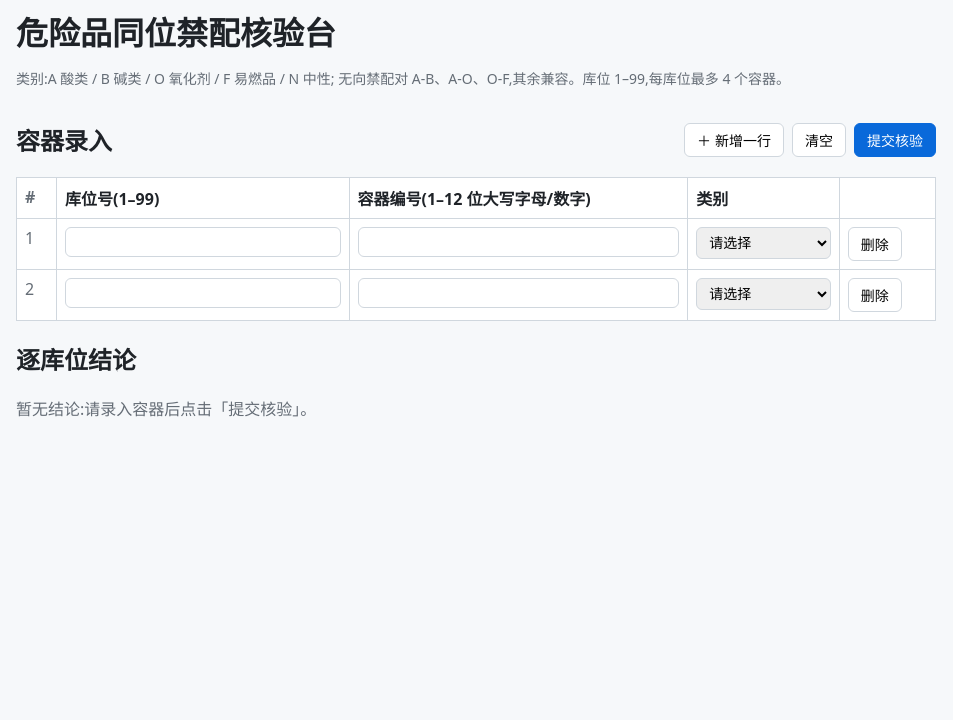
App 核验台交互 › 同一批内字段错误、重复编号、超容量一次性全部标出
Click the button with test id "add-row".
click(734, 140)  # box [684,123,784,157]
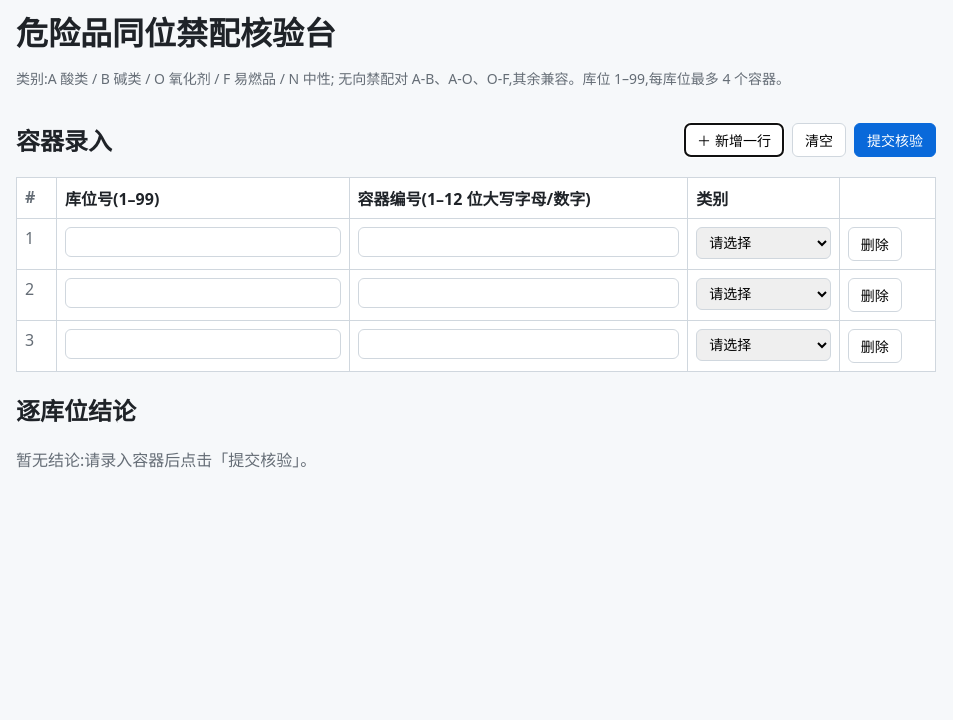
Click the button with test id "add-row".
click(734, 140)  # box [684,123,784,157]
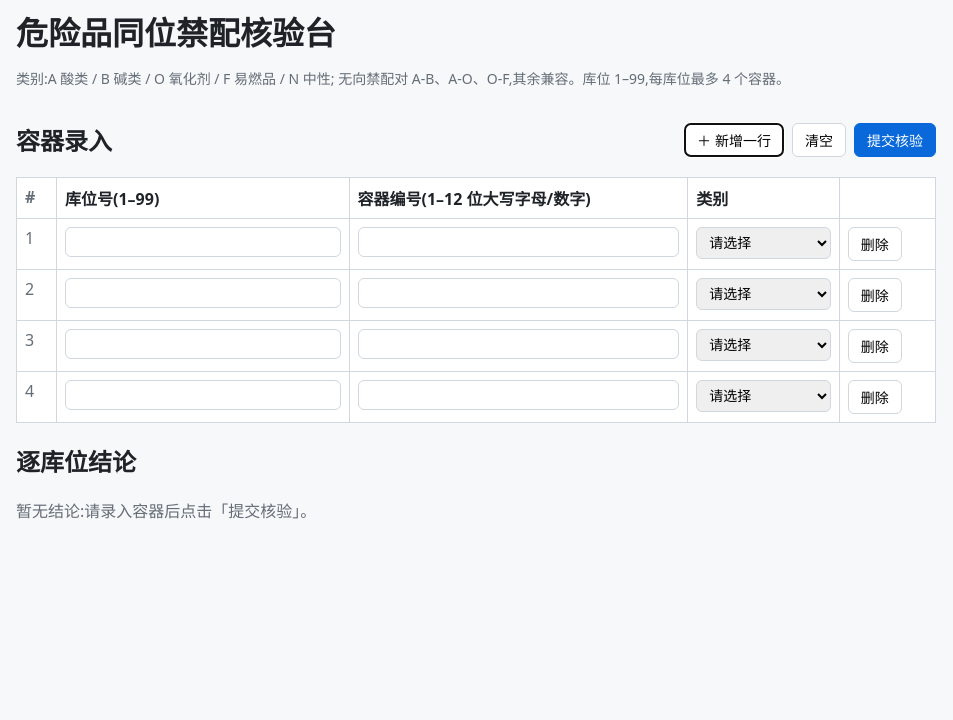
Click the button with test id "add-row".
click(734, 140)  # box [684,123,784,157]
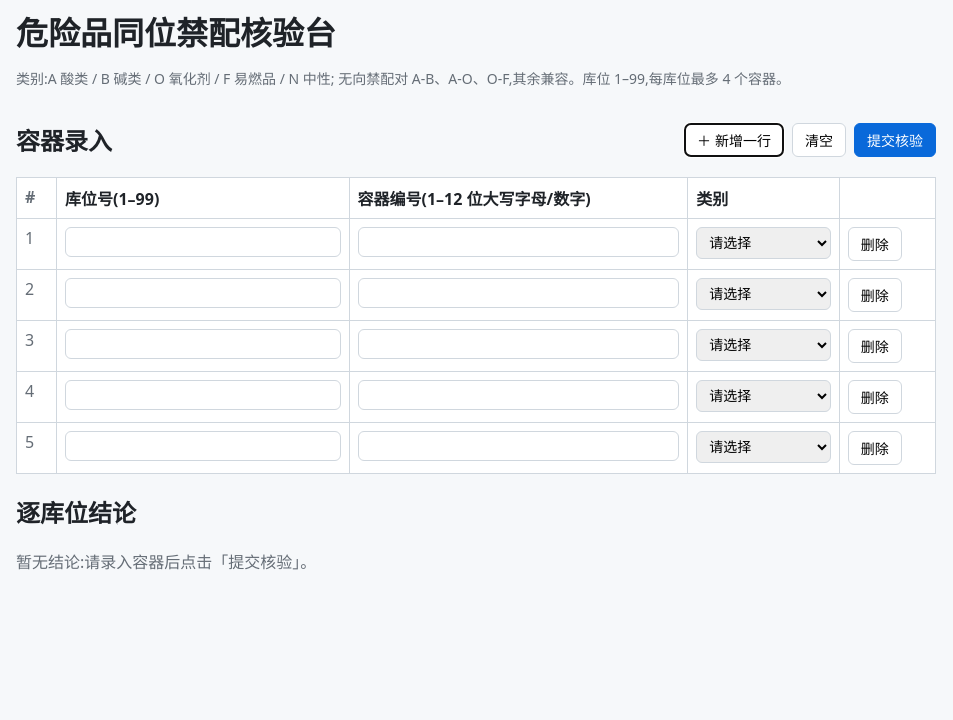
Click the button with test id "add-row".
click(734, 140)  # box [684,123,784,157]
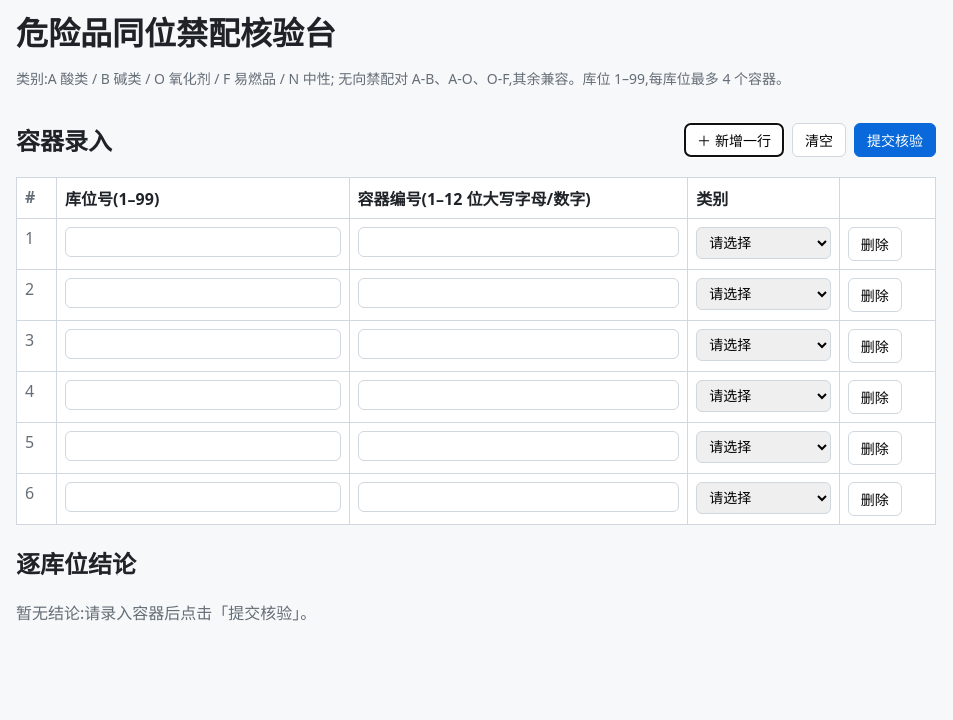
Click the button with test id "add-row".
click(734, 140)  # box [684,123,784,157]
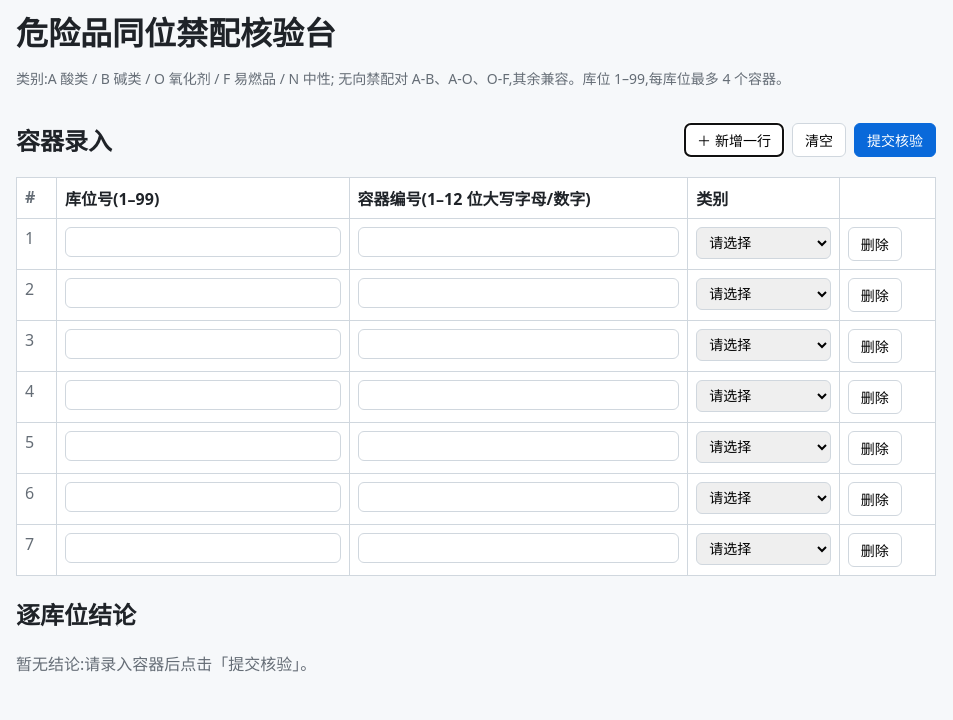
Click the button with test id "submit".
click(895, 140)  # box [854,123,936,157]
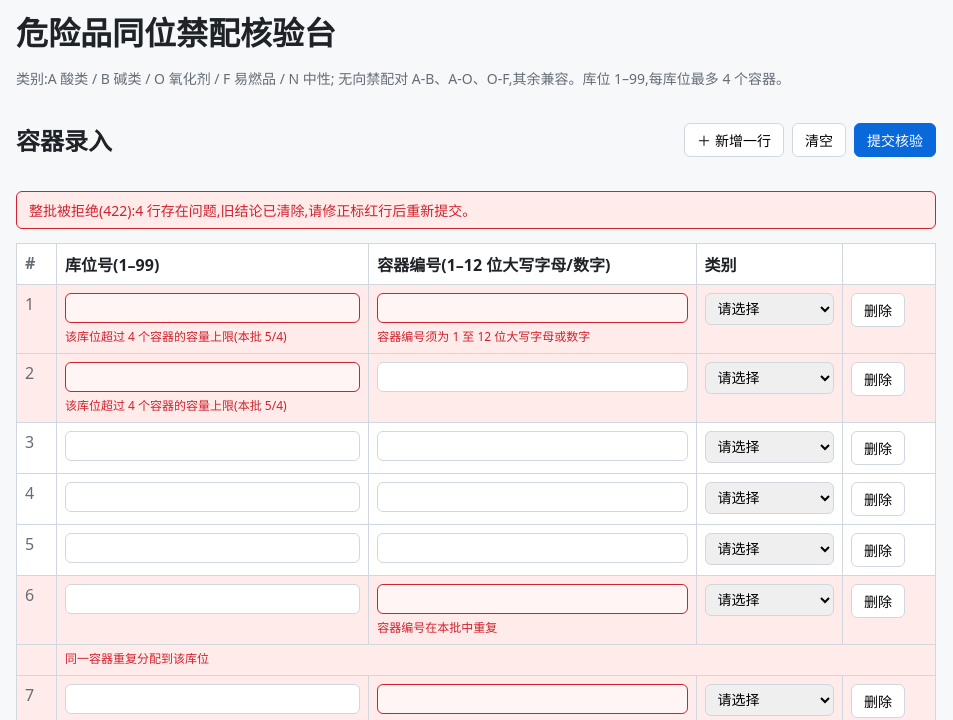
Result: the text "容器编号须为 1 至 12 位大写字母或数字" is shown at [377,328,590,345]
Result: the text "该库位超过 4 个容器的容量上限(本批 5/4)" next to "容器编号须为 1 至 12 位大写字母或数字" is shown at [65,328,287,345]
Result: the text "同一容器重复分配到该库位" is shown once at [65,650,209,667]
